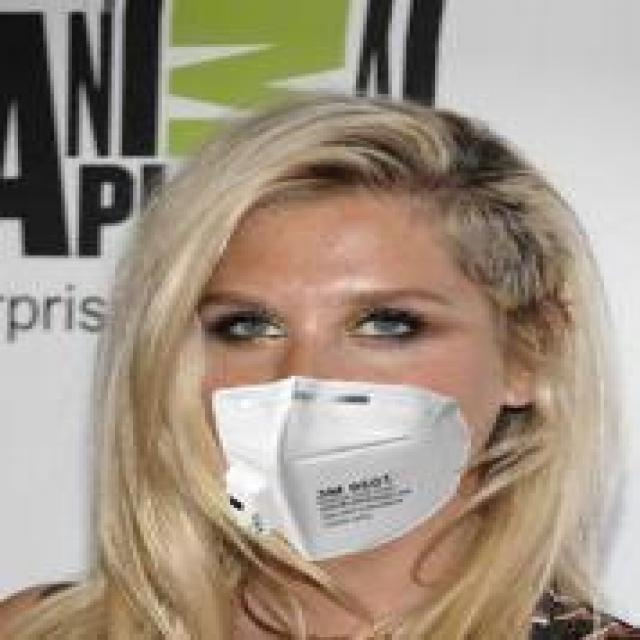mask: (101, 80, 586, 572)
